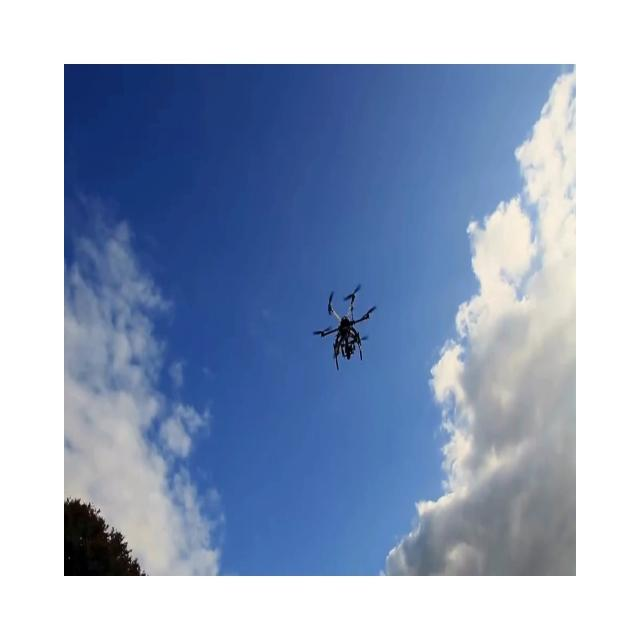drone: (312, 283, 377, 371)
